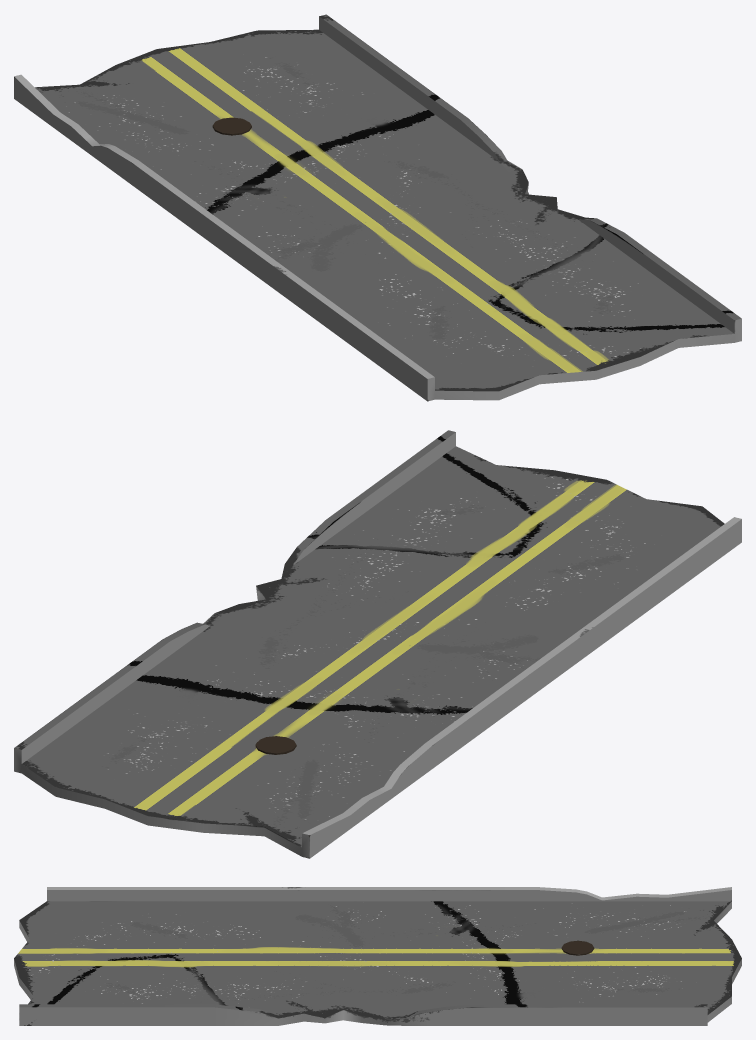
Rendered from Battle Road 01.fbx.
3 renders of one model, top to bottom at view 1: azimuth 30°, elevation 25°; view 2: azimuth 150°, elevation 25°; view 3: azimuth 270°, elevation 25°, orthographic. The views are drawn at different scales.
Parts seen in each view (by area): view 1: Road1; view 2: Road1; view 3: Road1.
Part boxes in pixels (left/top/right/bottom): Road1: left=14, top=14, right=741, bottom=401; Road1: left=14, top=430, right=741, bottom=858; Road1: left=14, top=887, right=741, bottom=1025.
Size of the model in its own units: 11.08 by 0.7941 by 28.12.
